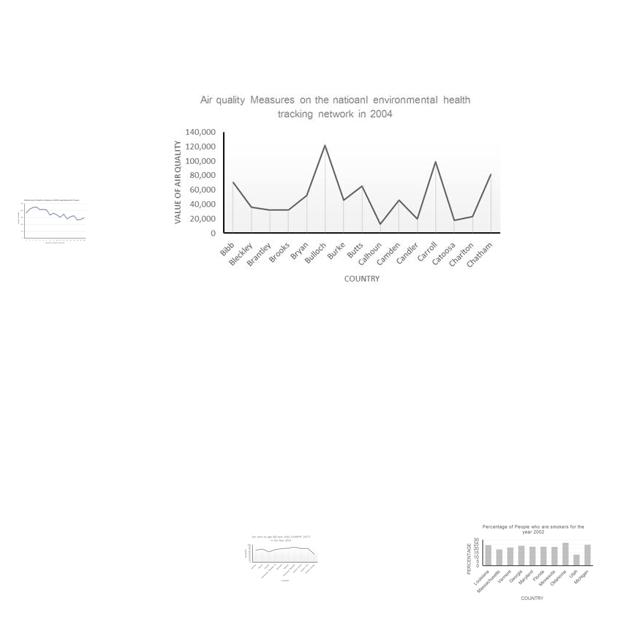Graph: (163, 88, 509, 295), (465, 522, 596, 602), (243, 534, 319, 582), (16, 198, 87, 246)
